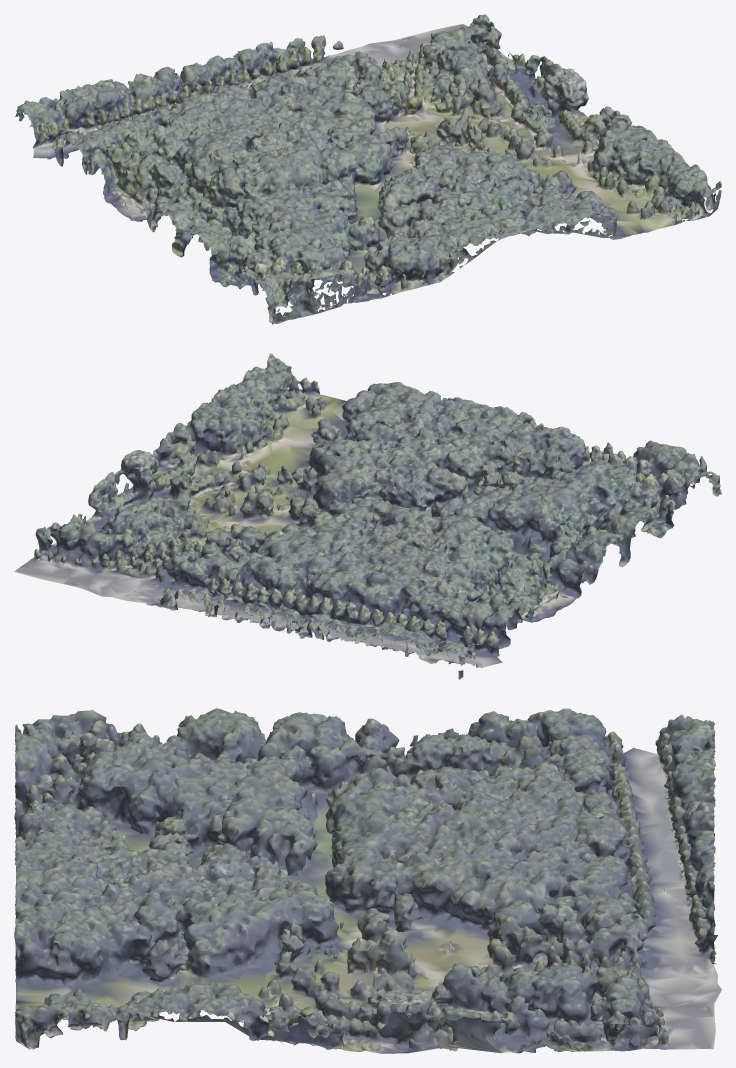
Rendered from surface-detail-3890_58193.glb.
3 renders of one model, top to bottom at view 1: azimuth 30°, elevation 25°; view 2: azimuth 150°, elevation 25°; view 3: azimuth 270°, elevation 25°, orthographic. The views are drawn at different scales.
Parts seen in each view (by area): view 1: world; view 2: world; view 3: world.
Part boxes in pixels (bbox=[...]): world: bbox=[15, 14, 721, 324]; world: bbox=[14, 353, 721, 679]; world: bbox=[14, 708, 721, 1053].
Size of the model in its own units: 370 by 33.42 by 365.
